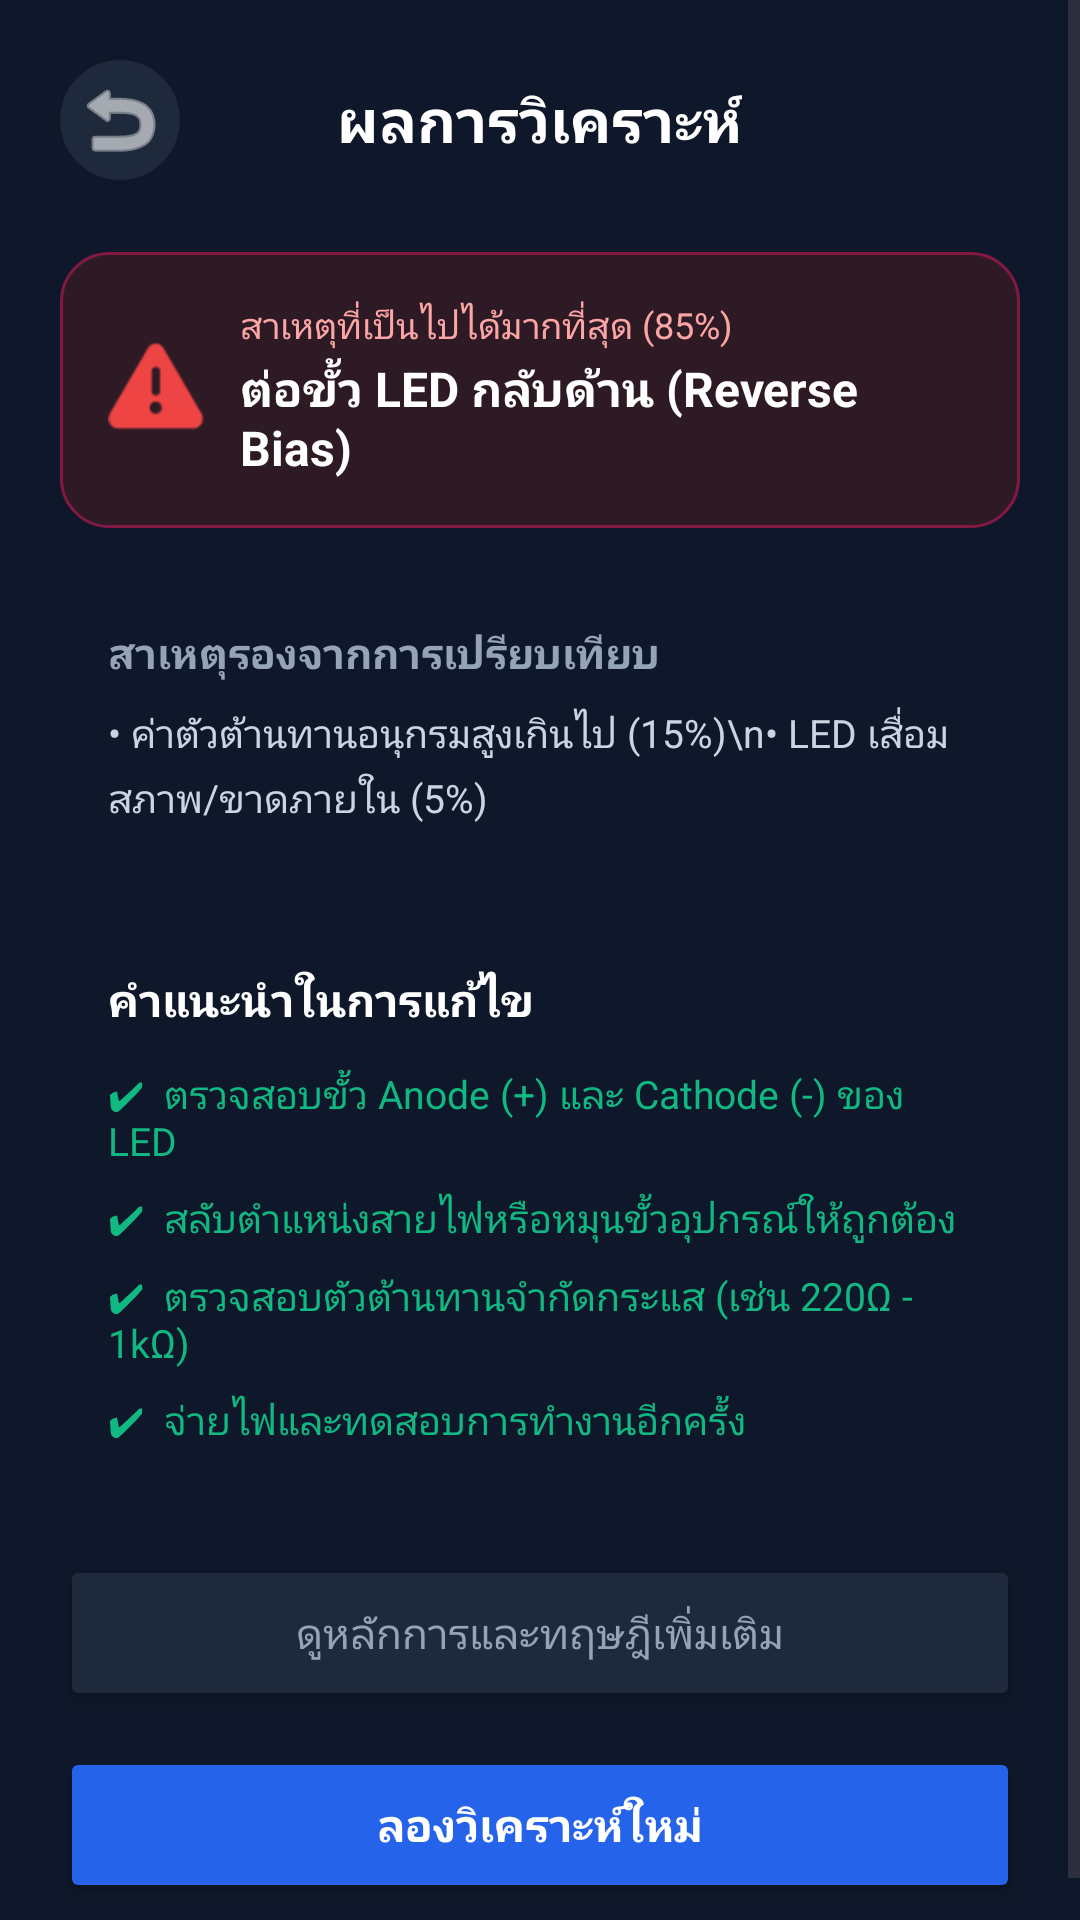

Where to tap for icons on this 1080×1920 app screen, as (x=x, y=y):
alert: (x=156, y=386)
revert: (x=121, y=120)
